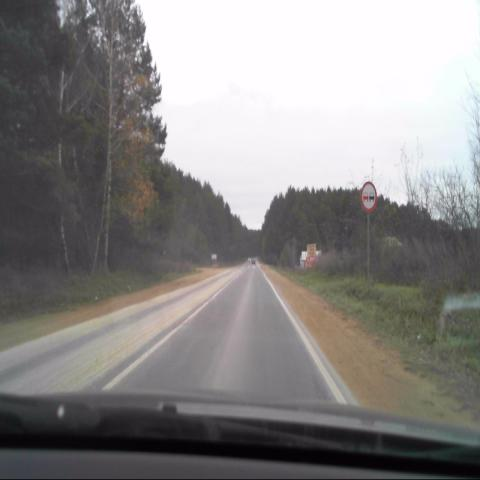3_20: (360, 181, 376, 211)
